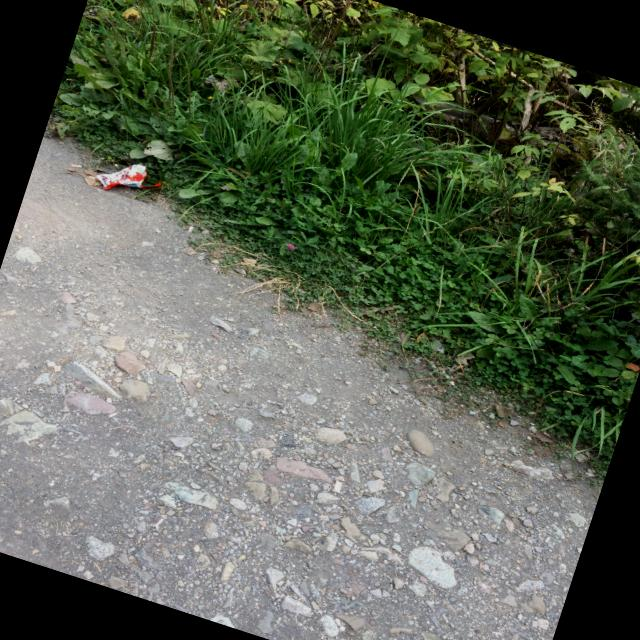Cigarette: (334, 481, 341, 493)
Other plastic: (96, 165, 162, 190)
